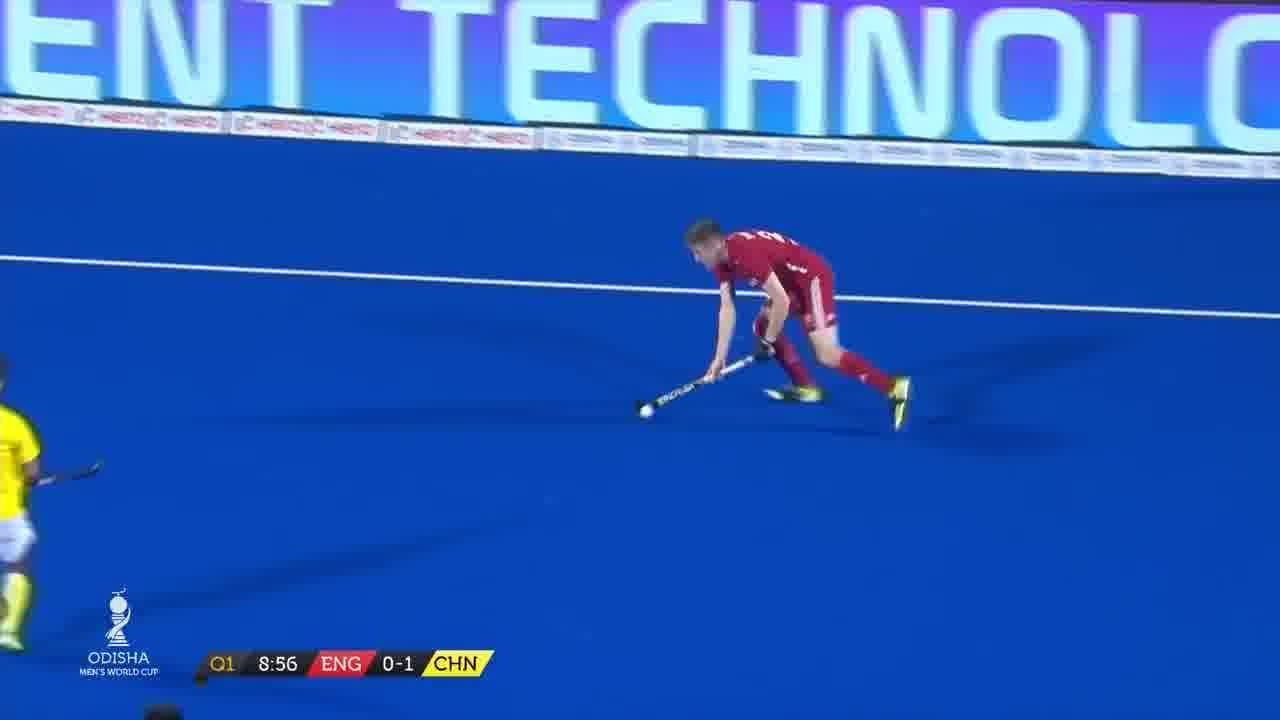ball: (636, 393, 664, 427)
